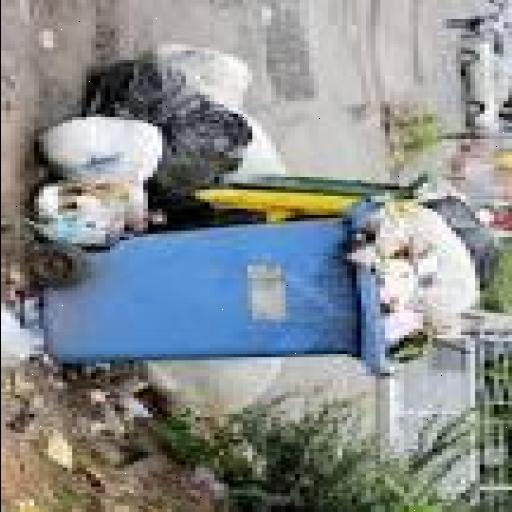poubelle_pleine: (36, 170, 498, 402)
